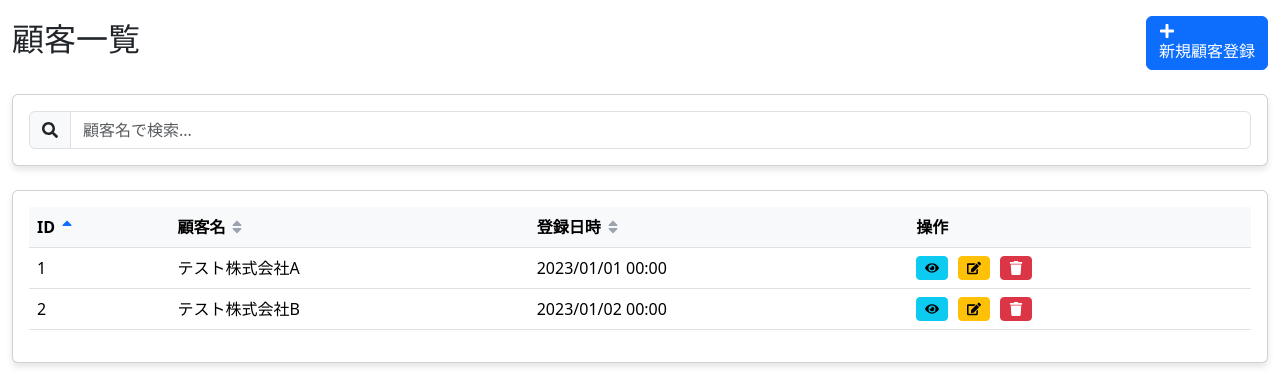
Test: CustomerList Component › displays empty search results message when no customers match search
The width and height of the screenshot is (1280, 385).
// 一致しない検索語を入力
Type "XYZ" into the field with placeholder "顧客名で検索..." at (660, 130), box [70,111,1251,149]
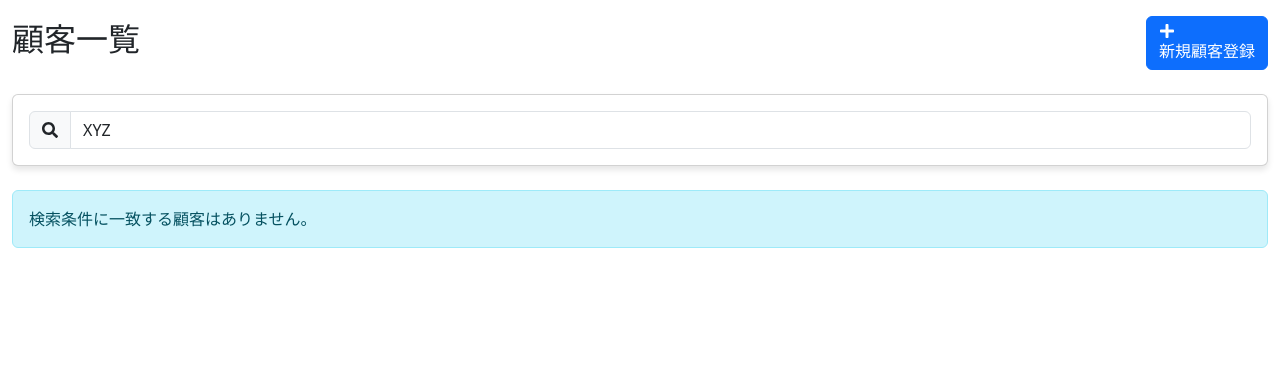
Expected: the text "検索条件に一致する顧客はありません。" is shown, [12,190,1268,248]
